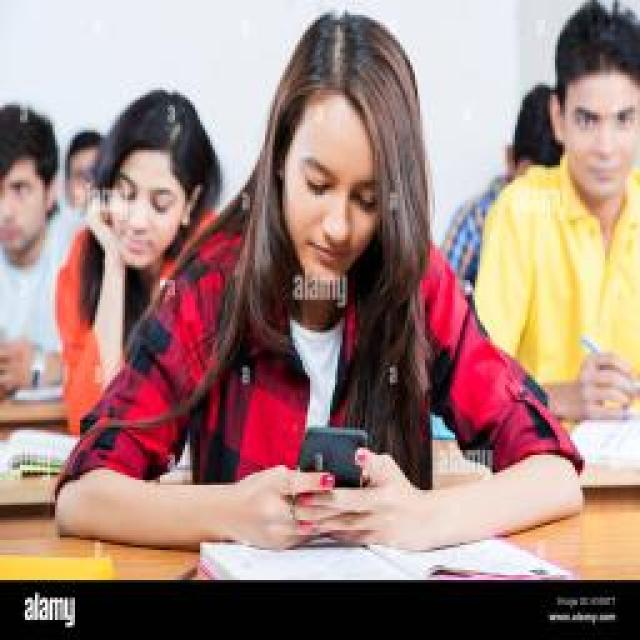phone: (63, 17, 585, 545)
